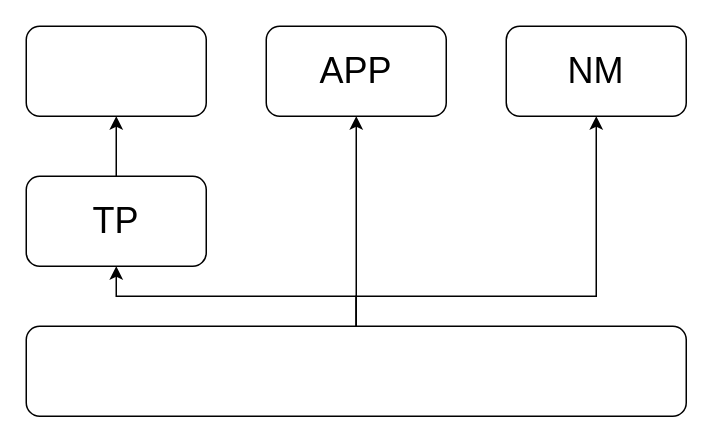
The diagram is 713 pixels wide and 443 high, and some of its shapes have lost their labels. Here are the shapes that lost their labels. From the top down, the box of each, then its label:
(25, 25, 206, 116): Diag DTC
(25, 325, 686, 416): CAN
